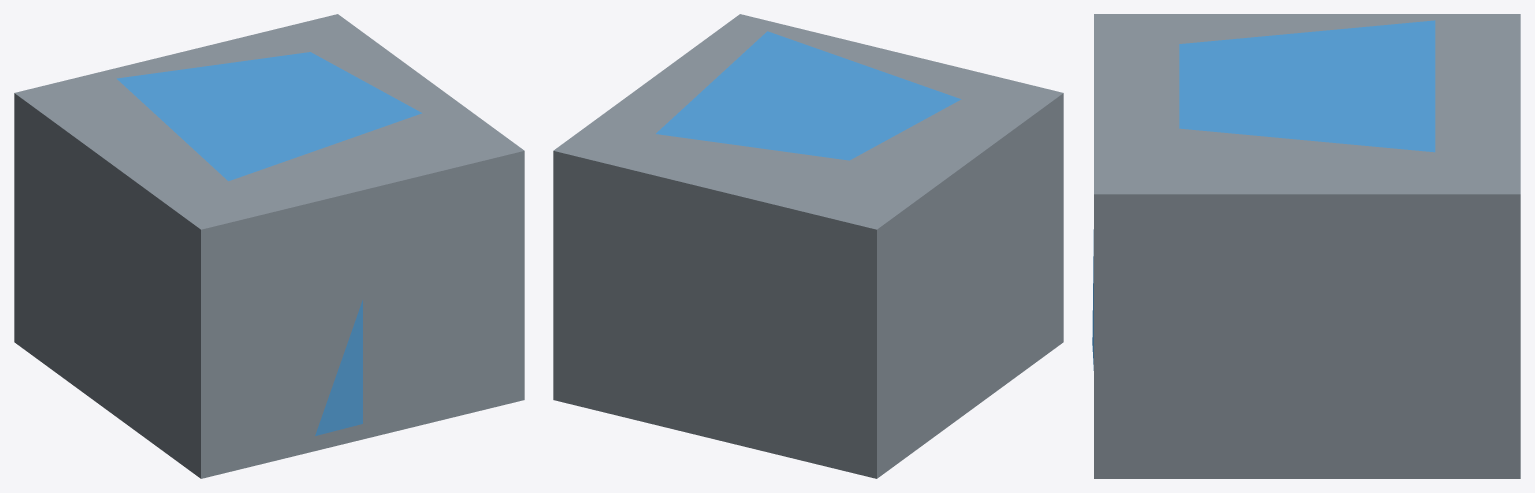
The model's file is AL_SuperweaponOrbital_LOD1.glb.
The picture shows the model from 3 angles, left to right: view 1: azimuth 30°, elevation 25°; view 2: azimuth 150°, elevation 25°; view 3: azimuth 270°, elevation 25°; orthographic projection. The views are drawn at different scales.
Parts seen in each view (by area): view 1: EntranceGate; view 2: EntranceGate; view 3: EntranceGate.
Boxes of the visible parts, x1,y1,x2,y2 form: EntranceGate: [14, 14, 524, 478]; EntranceGate: [553, 14, 1063, 478]; EntranceGate: [1092, 14, 1520, 478].
Size of the model in its own units: 1000 by 813 by 1003.
